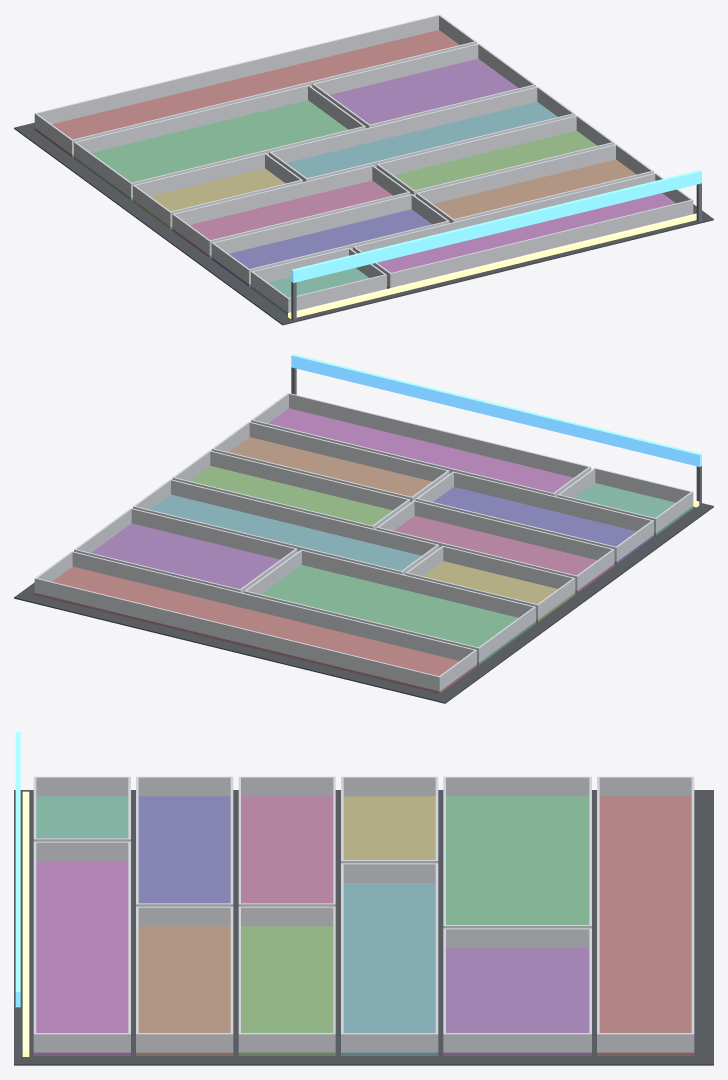
Rendered from hall-steel-erectors.glb.
The picture shows the model from 3 angles, top to bottom: view 1: azimuth 30°, elevation 25°; view 2: azimuth 150°, elevation 25°; view 3: azimuth 270°, elevation 25°; orthographic projection. The views are drawn at different scales.
Parts seen in each view (by area): view 1: Steel Erectors; view 2: Steel Erectors; view 3: Steel Erectors.
Part boxes in pixels (<box>): Steel Erectors: <box>14,14,713,325</box>; Steel Erectors: <box>14,354,713,703</box>; Steel Erectors: <box>14,732,713,1065</box>.
Bounding box in the file's own units: 38 × 4.3 × 41.
